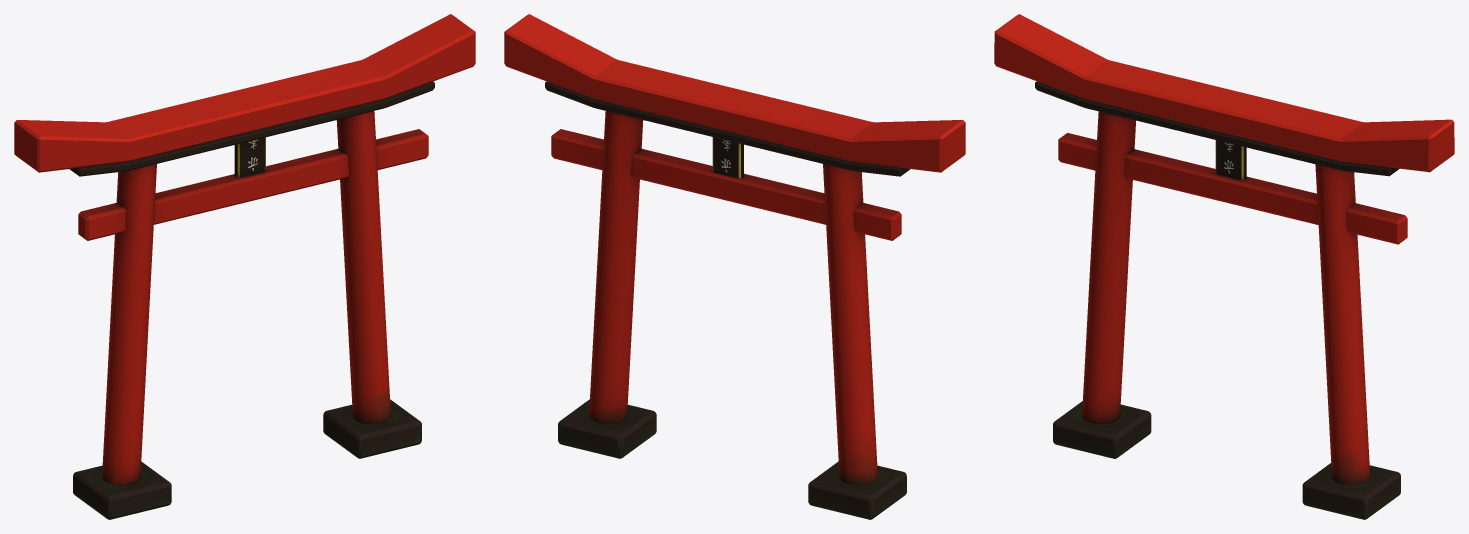
The model's file is gate.obj.
3 renders of one model, left to right at view 1: azimuth 30°, elevation 25°; view 2: azimuth 150°, elevation 25°; view 3: azimuth 330°, elevation 25°, orthographic.
Parts seen in each view (by area): view 1: gate:polySurface340 gate:textureEditorIsolateSelectSet gate:poly; view 2: gate:polySurface340 gate:textureEditorIsolateSelectSet gate:poly; view 3: gate:polySurface340 gate:textureEditorIsolateSelectSet gate:poly.
Part boxes in pixels (<box>): gate:polySurface340 gate:textureEditorIsolateSelectSet gate:poly: <box>14,14,475,519</box>; gate:polySurface340 gate:textureEditorIsolateSelectSet gate:poly: <box>504,14,965,519</box>; gate:polySurface340 gate:textureEditorIsolateSelectSet gate:poly: <box>994,14,1454,519</box>.
Size of the model in its own units: 6.85 by 5.91 by 1.
Materials: 1 (1 with a texture image).
